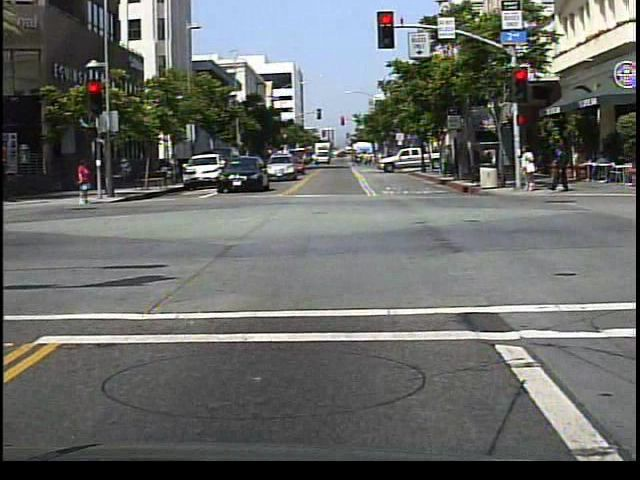person: (550, 145, 574, 194), (519, 143, 539, 195), (77, 157, 95, 208)
